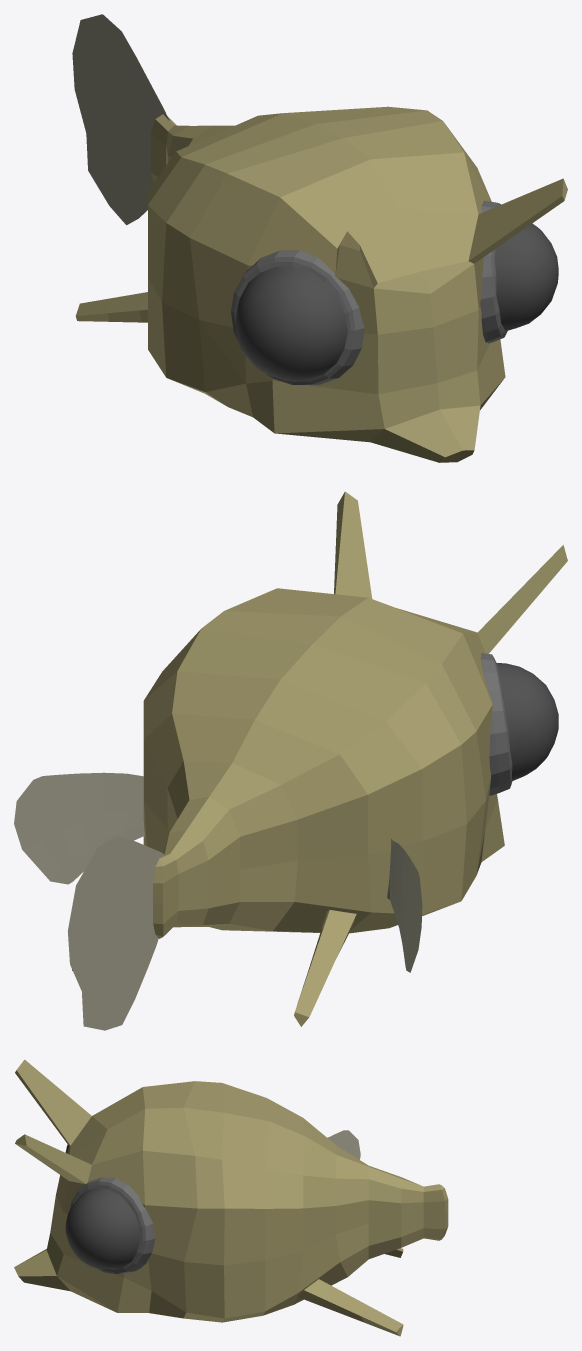
The model's file is cowfish.glb.
The picture shows the model from 3 angles, top to bottom: view 1: azimuth 30°, elevation 25°; view 2: azimuth 150°, elevation 25°; view 3: azimuth 270°, elevation 25°; orthographic projection. The views are drawn at different scales.
Parts seen in each view (by area): view 1: cutefish__Cowfish.glb; view 2: cutefish__Cowfish.glb; view 3: cutefish__Cowfish.glb.
Boxes of the visible parts, x1,y1,x2,y2 form: cutefish__Cowfish.glb: (72,14,567,462); cutefish__Cowfish.glb: (14,491,567,1030); cutefish__Cowfish.glb: (14,1059,448,1336).
Size of the model in its own units: 3.38 by 2.24 by 5.6.
